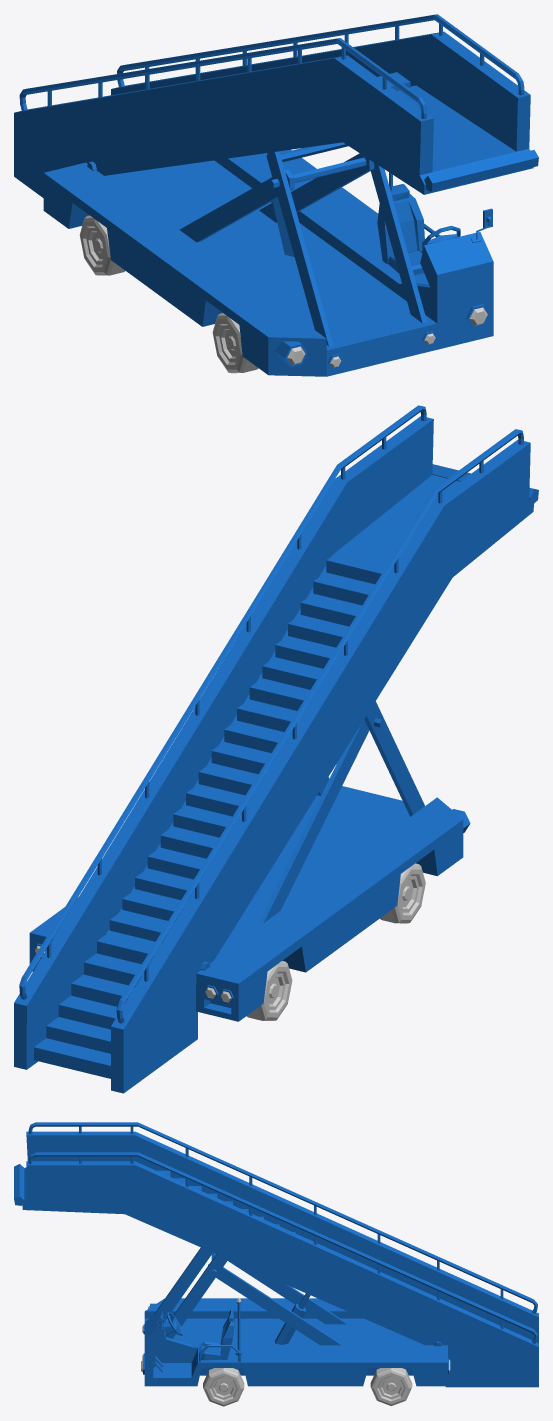
Rendered from SM_gangway.fbx.
The picture shows the model from 3 angles, top to bottom: view 1: azimuth 30°, elevation 25°; view 2: azimuth 150°, elevation 25°; view 3: azimuth 270°, elevation 25°; orthographic projection. The views are drawn at different scales.
Visible parts, largest first — view 1: dfe45, Cylinder_7, Cylinder_4; view 2: dfe45, Cylinder_4, Cylinder_7; view 3: dfe45, Cylinder_1, Cylinder_7.
Part boxes in pixels (<box>): dfe45: <box>14,14,538,376</box>; Cylinder_7: <box>79,215,125,275</box>; Cylinder_4: <box>212,313,258,373</box>; dfe45: <box>14,405,538,1093</box>; Cylinder_4: <box>380,863,425,923</box>; Cylinder_7: <box>246,961,292,1020</box>; dfe45: <box>14,1122,538,1387</box>; Cylinder_1: <box>203,1368,244,1406</box>; Cylinder_7: <box>370,1368,412,1405</box>.
Size of the model in its own units: 3168 by 5137 by 10346.
